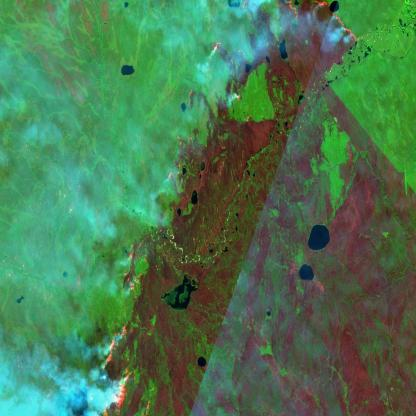fire: (93, 0, 357, 416)
